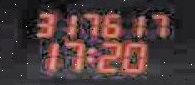0: (121, 41, 145, 72)
1: (47, 41, 58, 70), (133, 14, 145, 38), (66, 12, 75, 36)
2: (96, 41, 120, 72)
3: (35, 11, 51, 36)
6: (101, 12, 120, 37)
7: (63, 40, 82, 69), (150, 12, 166, 37), (82, 11, 98, 36)
X: (85, 45, 95, 62)
